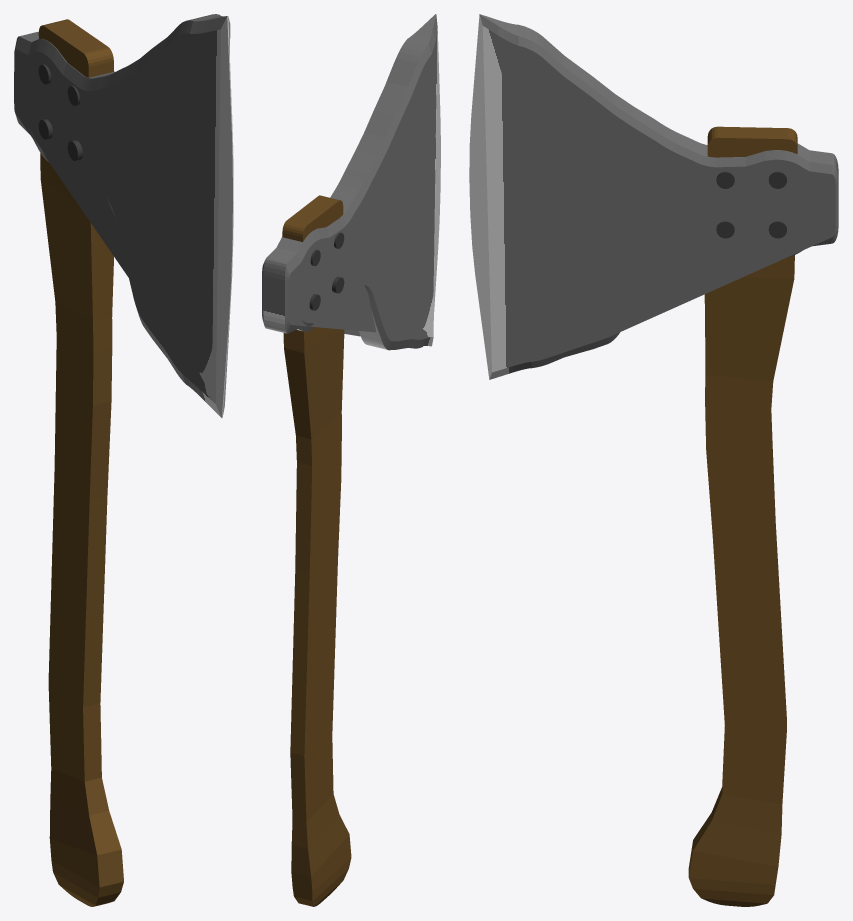
File: Axe.fbx
The picture shows the model from 3 angles, left to right: view 1: azimuth 30°, elevation 25°; view 2: azimuth 150°, elevation 25°; view 3: azimuth 270°, elevation 25°; orthographic projection. The views are drawn at different scales.
Parts seen in each view (by area): view 1: Axe; view 2: Axe; view 3: Axe.
Boxes of the visible parts, bbox=[...] form: Axe: bbox=[14, 14, 233, 906]; Axe: bbox=[262, 14, 440, 906]; Axe: bbox=[469, 14, 838, 906].
Bounding box in the file's own units: 37.66 × 955 × 359.
